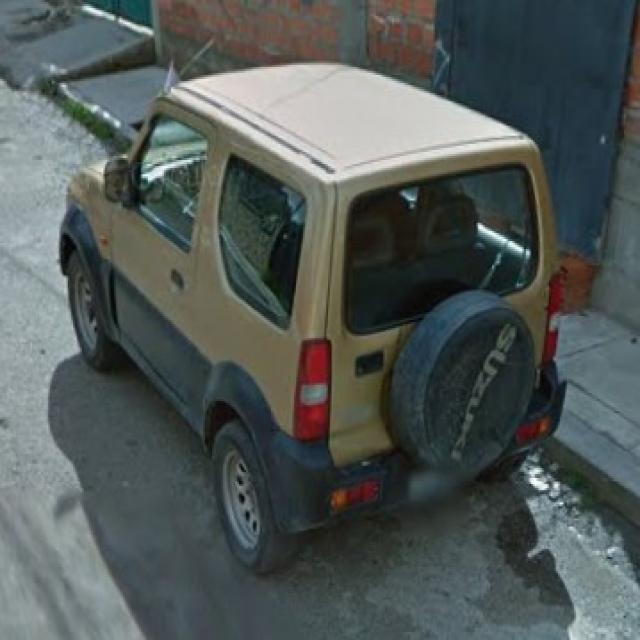cars: (64, 68, 570, 554)
